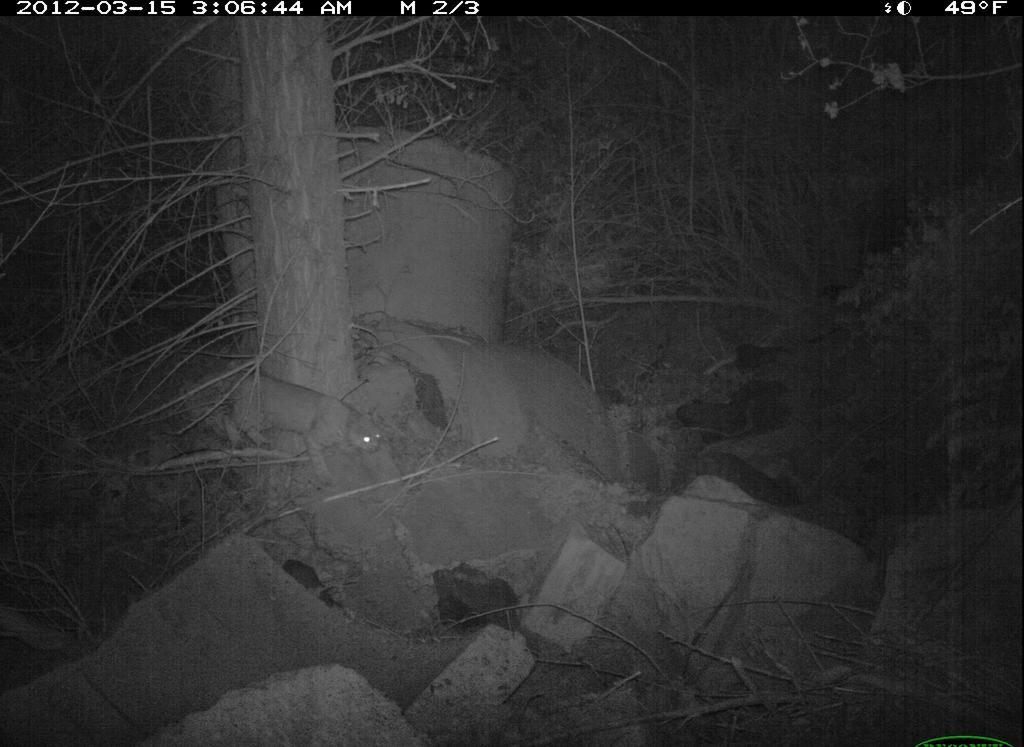bobcat: (217, 365, 395, 493)
